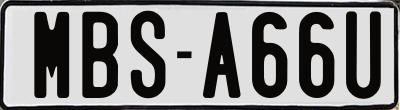6: (299, 12, 336, 102), (251, 11, 287, 103)
A: (200, 12, 243, 103)
B: (82, 11, 122, 101)
M: (31, 12, 70, 98)
S: (129, 10, 165, 98)
U: (345, 8, 383, 100)
